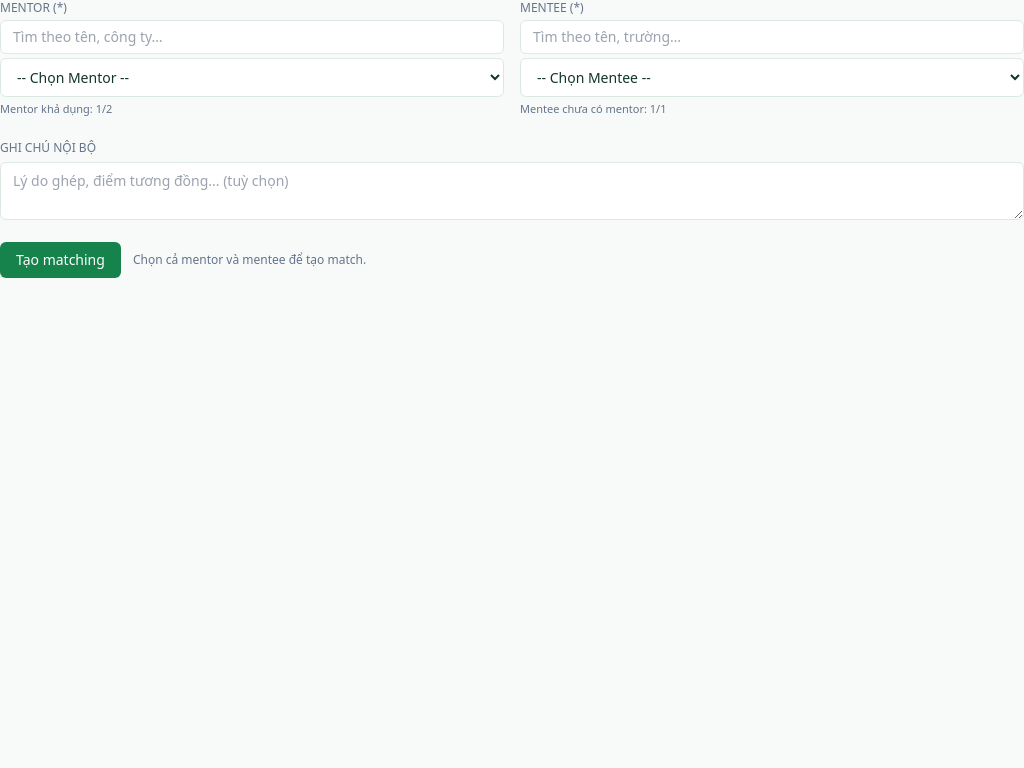
Test case: L · loading and error states › shows a safe error and keeps both selections when loading fails
Type "Alpha" into the field with placeholder "Tìm theo tên, công ty…" at (252,37), box [0,20,504,54]
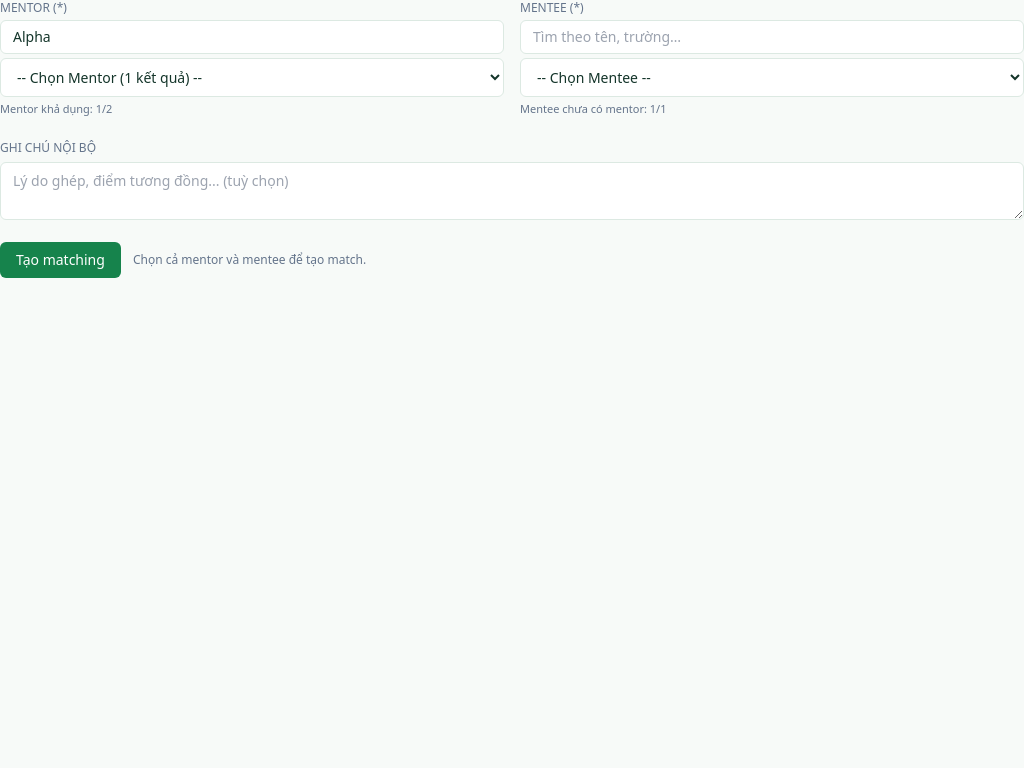
Select "[0/2] Nguyen Mentor Alpha — Acme" in the dropdown named "Chọn Mentor" below "Mentor (*)" at (252,78), box [0,58,504,97]
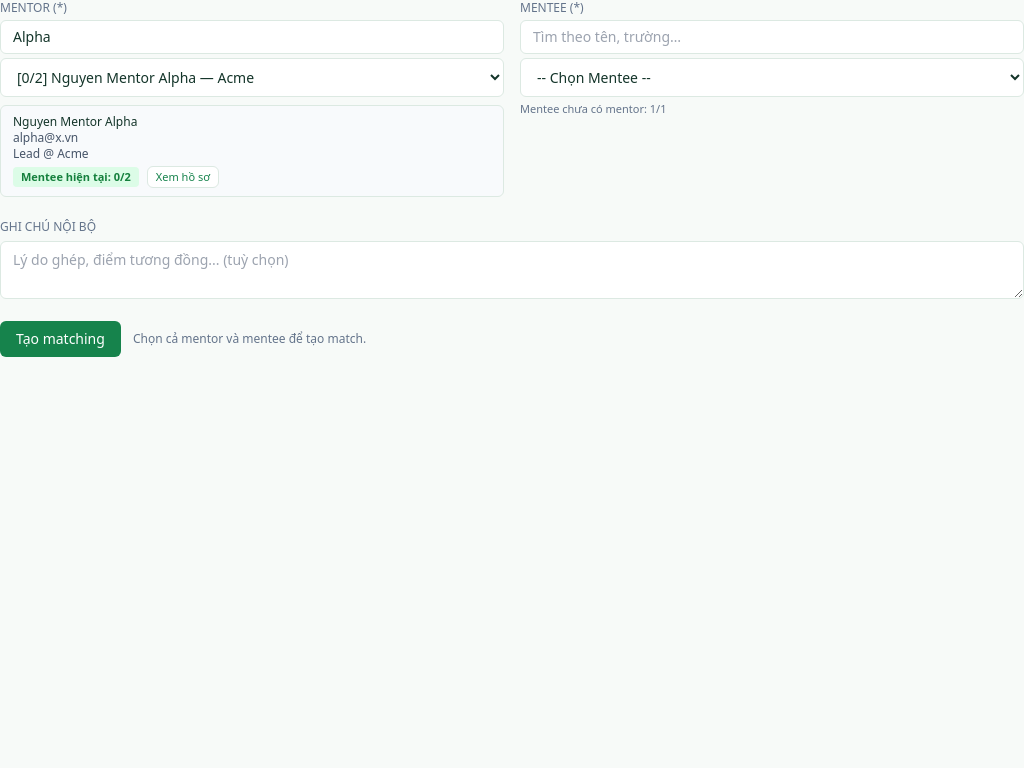
Select "Le Mentee One (UEH)" in the dropdown named "Chọn Mentee" below "Mentee (*)" at (772,78), box [520,58,1023,97]
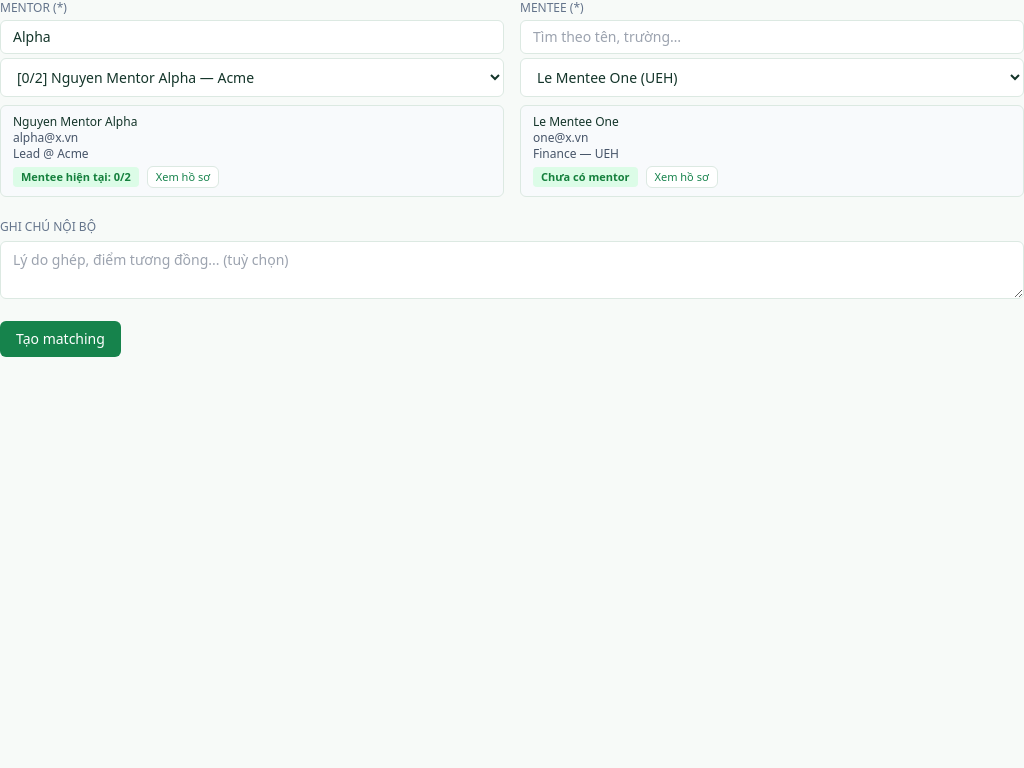
Type "ghi chú nội bộ" into the text box with placeholder "Lý do ghép, điểm tương đồng... (tuỳ chọn)" at (512,270), box [0,241,1023,299]
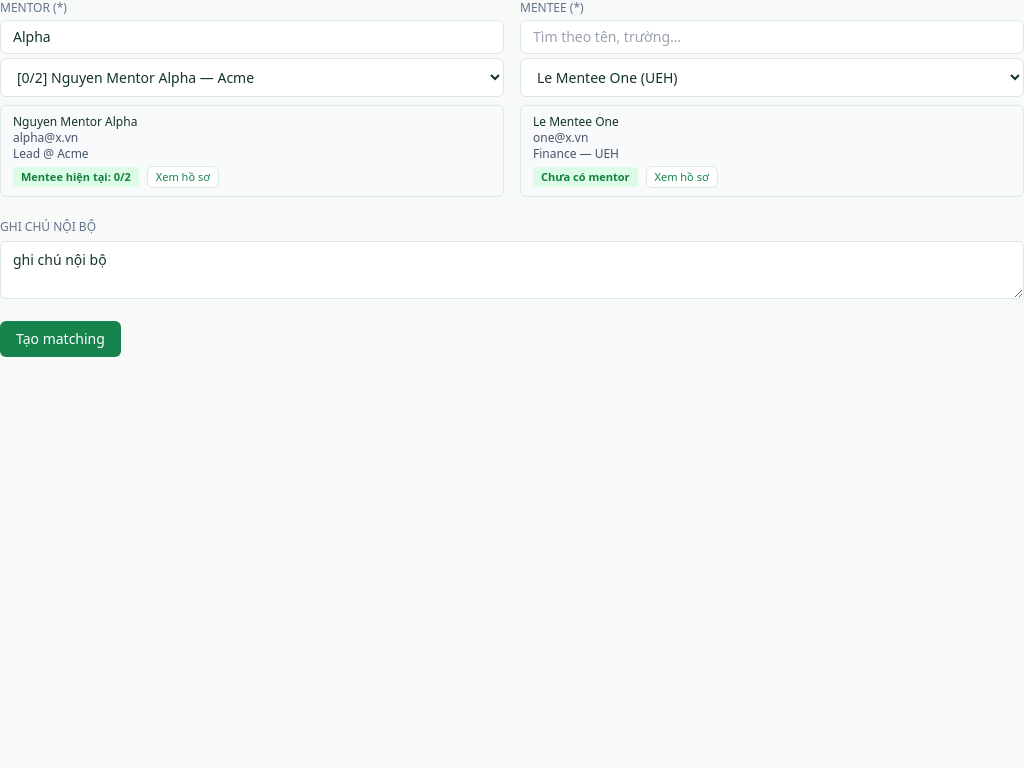
Click the button "Xem hồ sơ" next to "0/2" at (183,177), box [147,166,219,188]
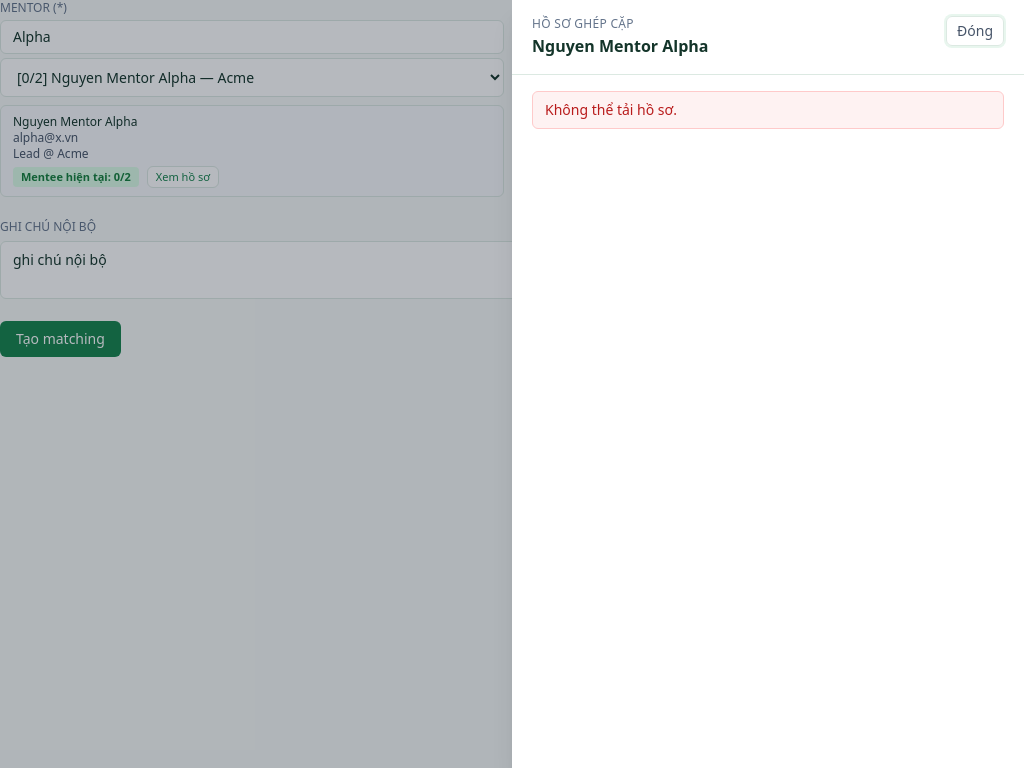
Check: the text "Không thể tải hồ sơ." is shown, box [532,91,1004,129]
